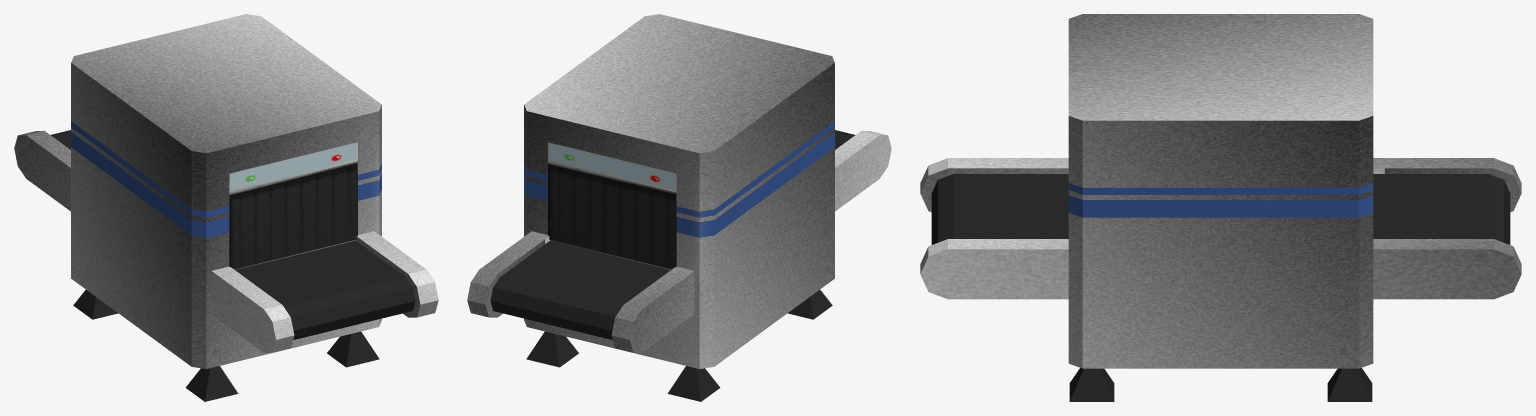
File: xray.dae
The picture shows the model from 3 angles, left to right: view 1: azimuth 30°, elevation 25°; view 2: azimuth 150°, elevation 25°; view 3: azimuth 270°, elevation 25°; orthographic projection. The views are drawn at different scales.
Visible parts, largest first — view 1: polymsh_Pts_Material_Surf; view 2: polymsh_Pts_Material_Surf; view 3: polymsh_Pts_Material_Surf.
Part boxes in pixels (left/top/right/bottom): polymsh_Pts_Material_Surf: left=14, top=14, right=438, bottom=401; polymsh_Pts_Material_Surf: left=467, top=14, right=891, bottom=401; polymsh_Pts_Material_Surf: left=920, top=14, right=1521, bottom=401.
Bounding box in the file's own units: 12.54 × 15.68 × 29.9.
Materials: 1 (1 with a texture image).
